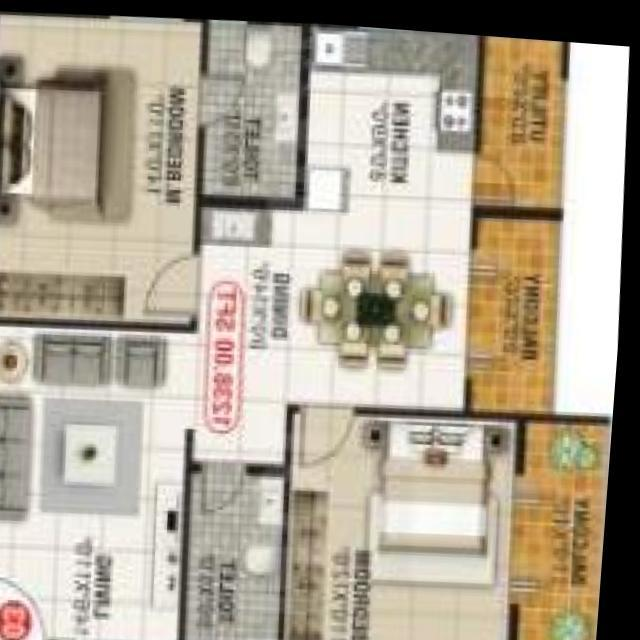Balcony-Sitout: (524, 402, 618, 640), (471, 194, 563, 412)
Bedroom: (284, 400, 531, 640)
Bedroom with Toilet: (0, 11, 210, 323)
Dining: (298, 236, 460, 366)
Kitchen: (299, 18, 481, 200)
Living: (0, 317, 202, 640)
Toilet: (199, 16, 311, 205), (187, 459, 296, 640)
Utility: (472, 28, 568, 207)
